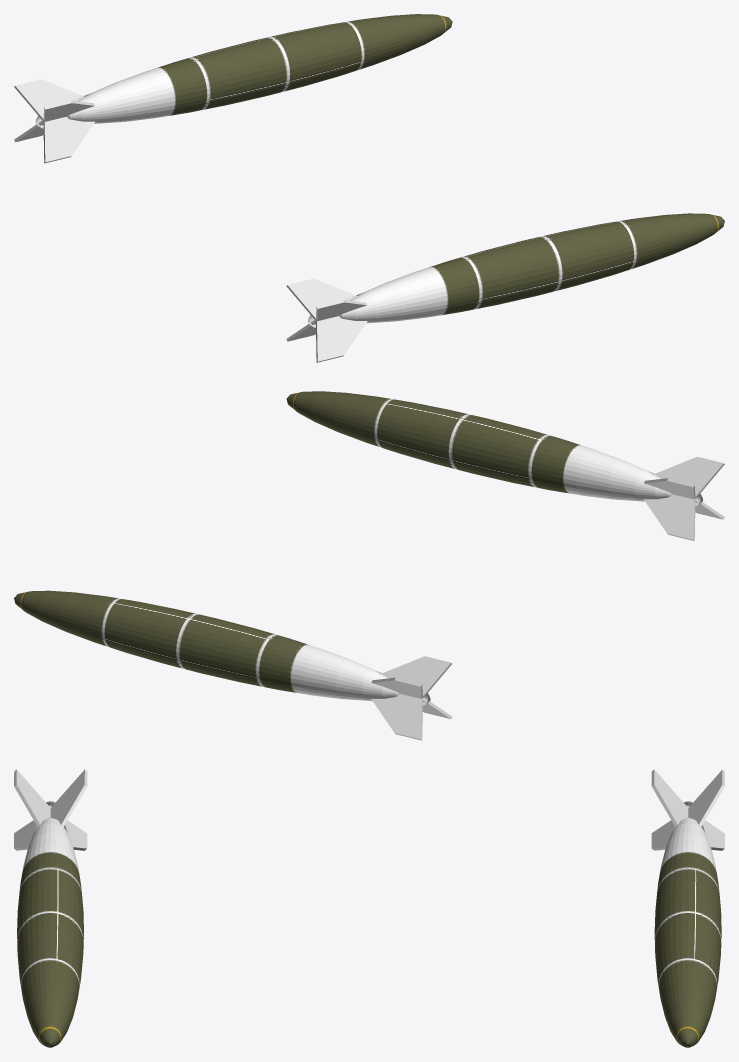
File: f16cgbu3123.glb
The picture shows the model from 3 angles, top to bottom: view 1: azimuth 30°, elevation 25°; view 2: azimuth 150°, elevation 25°; view 3: azimuth 270°, elevation 25°; orthographic projection. The views are drawn at different scales.
Parts seen in each view (by area): view 1: 立方体.022, 立方体.001; view 2: 立方体.022, 立方体.001; view 3: 立方体.001, 立方体.022.
Part boxes in pixels (<box>): 立方体.022: <box>286,213,724,362</box>; 立方体.001: <box>14,14,452,163</box>; 立方体.022: <box>286,391,724,540</box>; 立方体.001: <box>14,590,452,740</box>; 立方体.001: <box>651,769,724,1047</box>; 立方体.022: <box>14,769,87,1047</box>.
Bounding box in the file's own units: 3.8 × 0.4884 × 4.73.
1 material, 1 textured.
